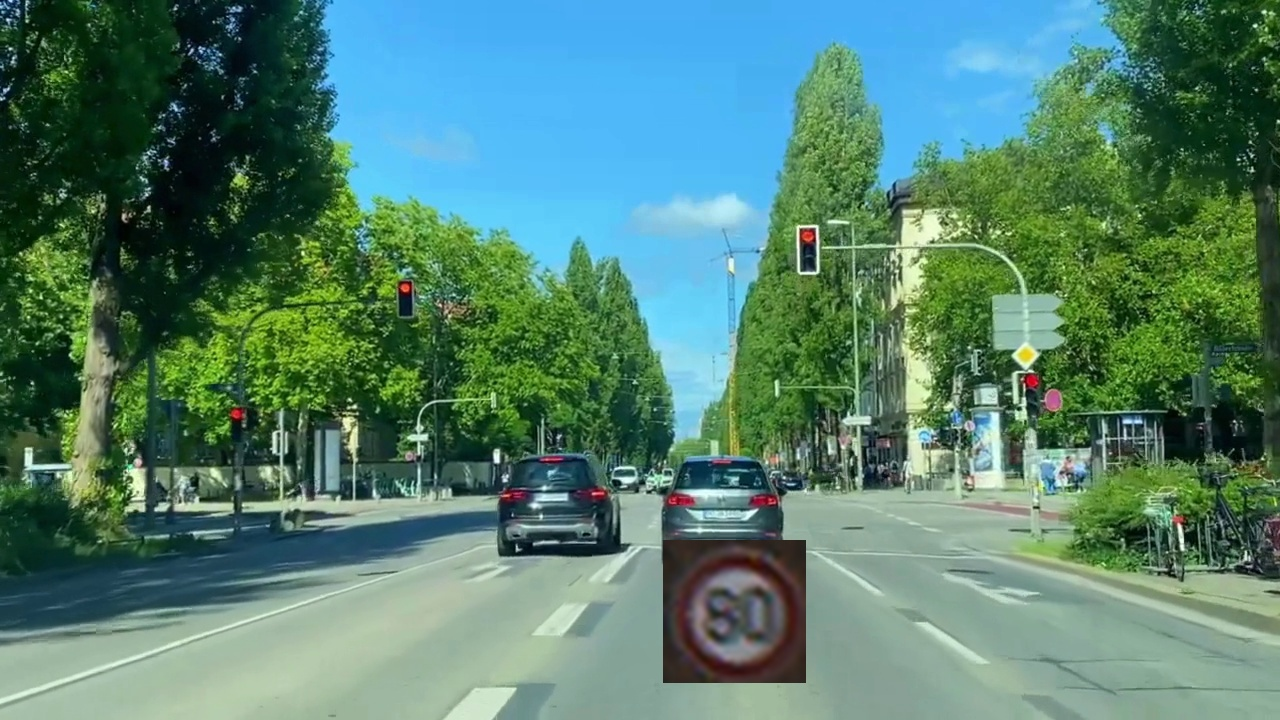Speed 80: (663, 540, 806, 683)
